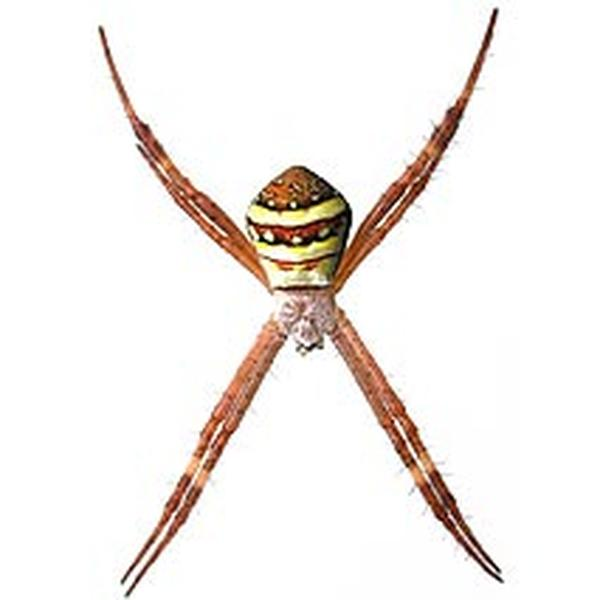St Andrew's Cross Spider: (101, 7, 506, 588)
